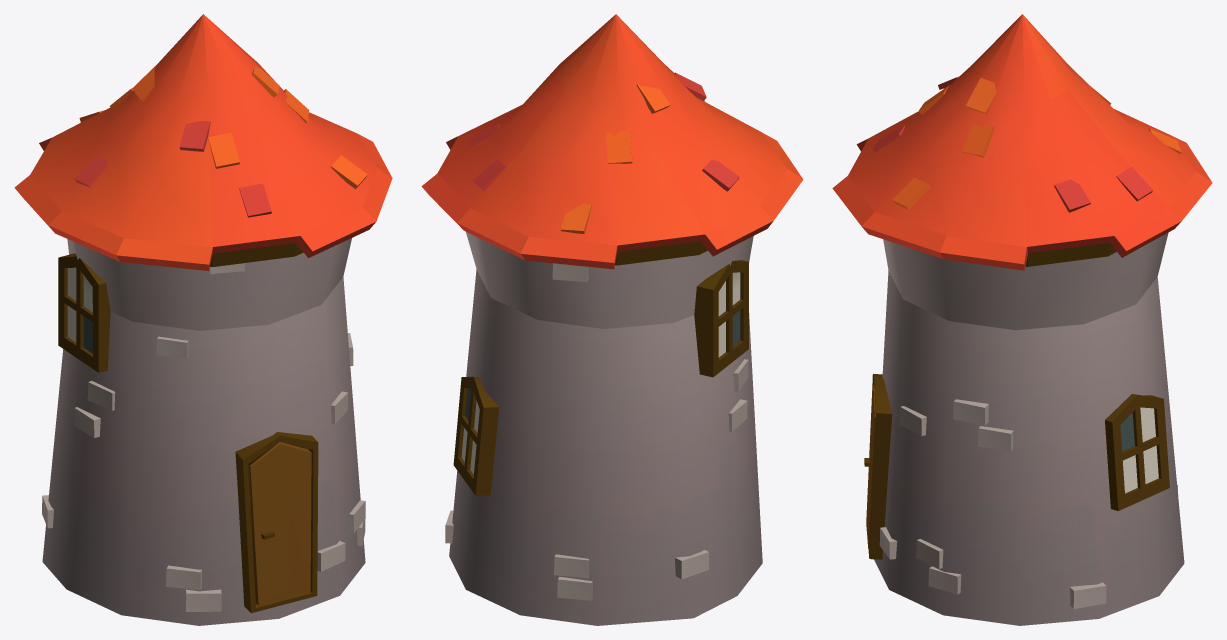
File: Tower_2.fbx
3 views of the same model, side by side, from view 1: azimuth 30°, elevation 25°; view 2: azimuth 150°, elevation 25°; view 3: azimuth 270°, elevation 25° (orthographic).
Parts seen in each view (by area): view 1: Tower_2; view 2: Tower_2; view 3: Tower_2.
Part boxes in pixels (x1,y1,x2,y2): Tower_2: [14, 14, 392, 625]; Tower_2: [421, 14, 803, 625]; Tower_2: [832, 14, 1212, 625].
Size of the model in its own units: 1.37 by 2.19 by 1.39.
